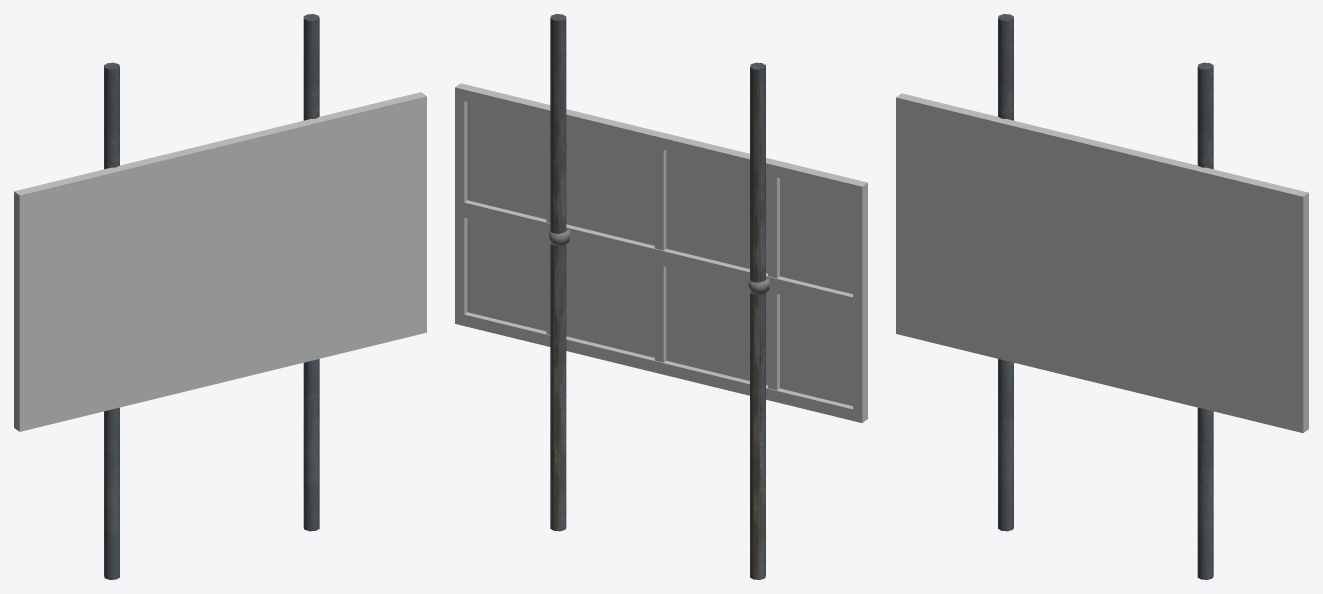
The model's file is OutDoor-C-1.fbx.
3 renders of one model, left to right at view 1: azimuth 30°, elevation 25°; view 2: azimuth 150°, elevation 25°; view 3: azimuth 330°, elevation 25°, orthographic.
Parts seen in each view (by area): view 1: Cube; view 2: Cube; view 3: Cube.
Boxes of the visible parts, x1,y1,x2,y2 form: Cube: [14, 14, 426, 579]; Cube: [455, 14, 867, 579]; Cube: [896, 14, 1308, 579].
Size of the model in its own units: 613 by 734 by 36.56.
